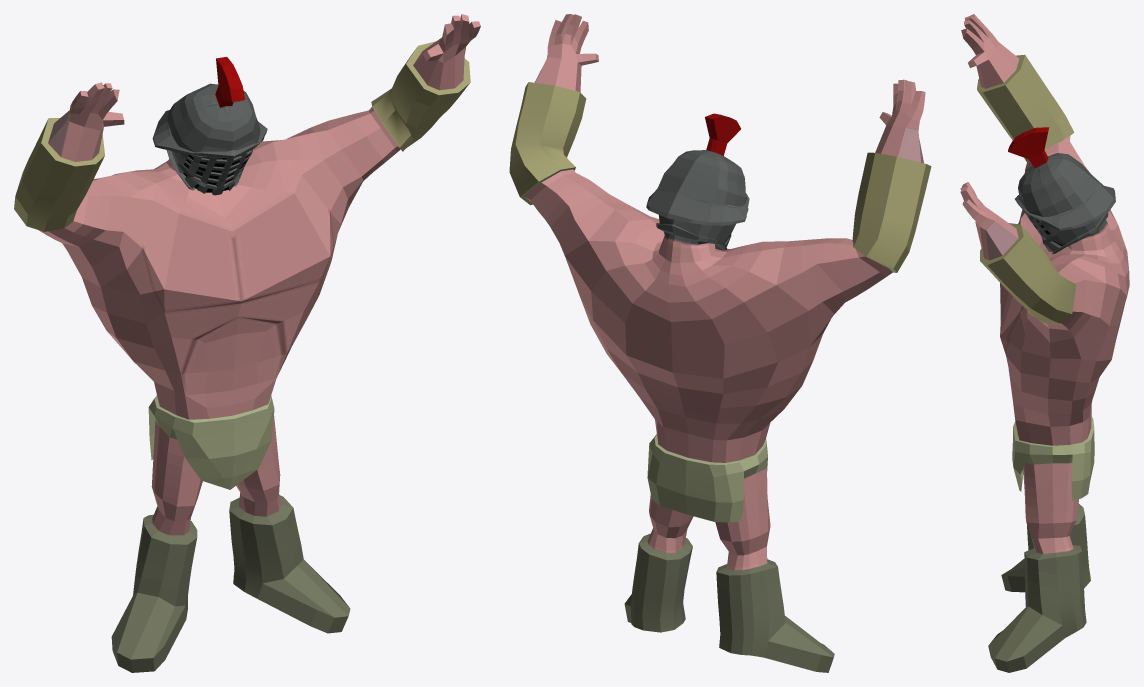
File: GladiatorCelebracion_000556.obj
3 renders of one model, left to right at view 1: azimuth 30°, elevation 25°; view 2: azimuth 150°, elevation 25°; view 3: azimuth 270°, elevation 25°, orthographic. The views are drawn at different scales.
Parts seen in each view (by area): view 1: Gadiador_Gladiador_H; view 2: Gadiador_Gladiador_H; view 3: Gadiador_Gladiador_H.
Part boxes in pixels (x1,y1,x2,y2): Gadiador_Gladiador_H: (14,14,480,672); Gadiador_Gladiador_H: (509,14,931,672); Gadiador_Gladiador_H: (960,14,1129,672).
Size of the model in its own units: 5.91 by 8.17 by 2.31.
1 material, 1 textured.
